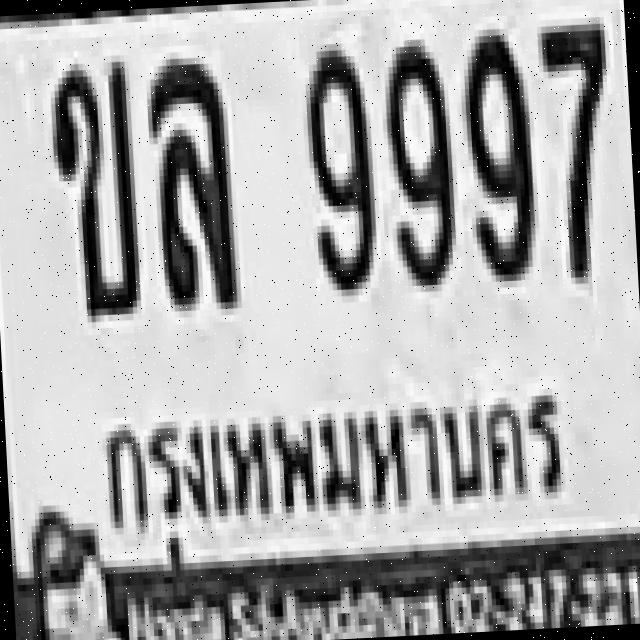11KhorKhai: (44, 58, 138, 314)
45LorLing: (145, 57, 237, 306)
7: (537, 18, 613, 278)
9: (458, 24, 534, 280), (378, 32, 454, 287), (300, 43, 374, 291)
Bangkok: (93, 381, 572, 534)
